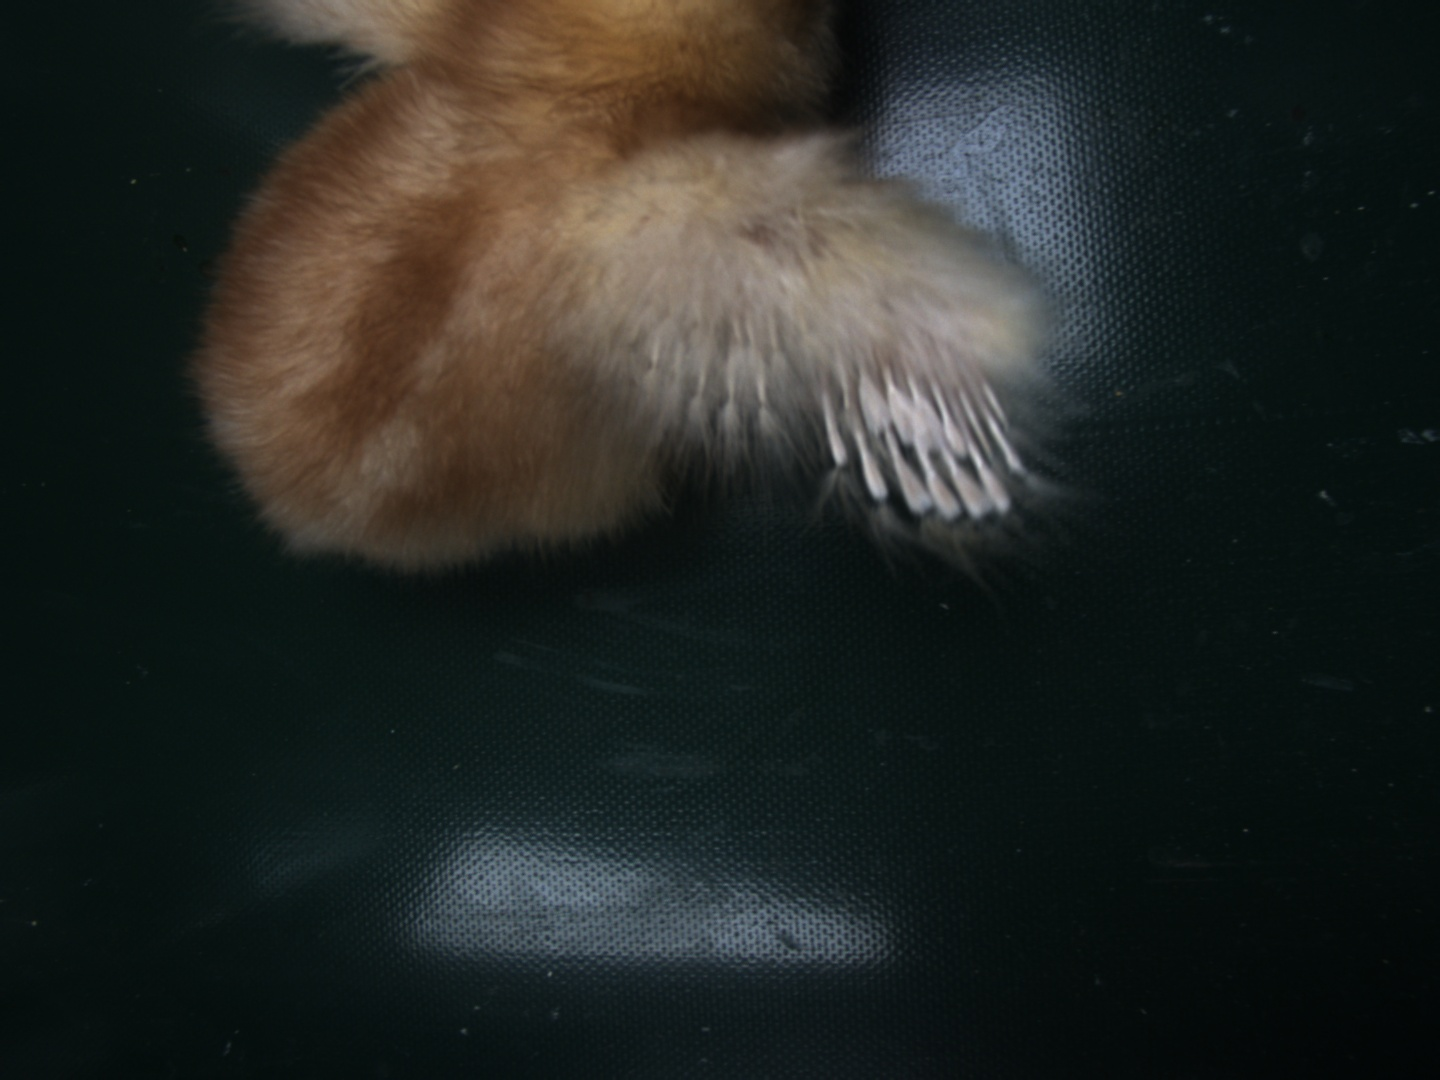female: (820, 344, 1033, 520)
